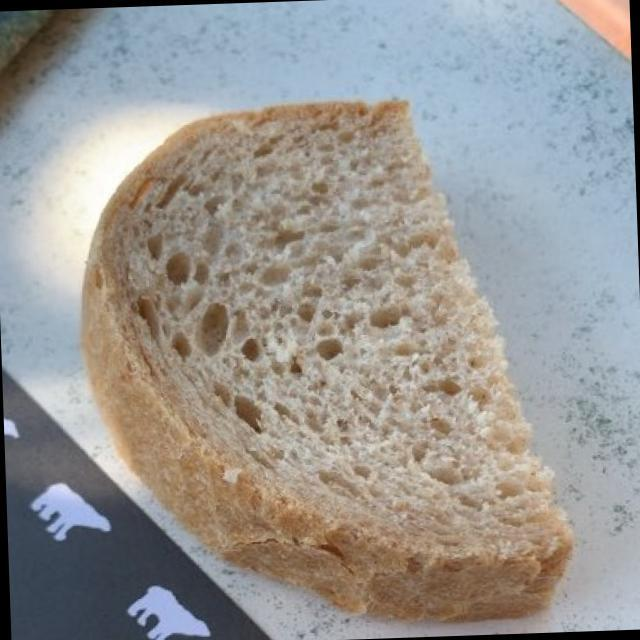Bread: (64, 75, 578, 640)
